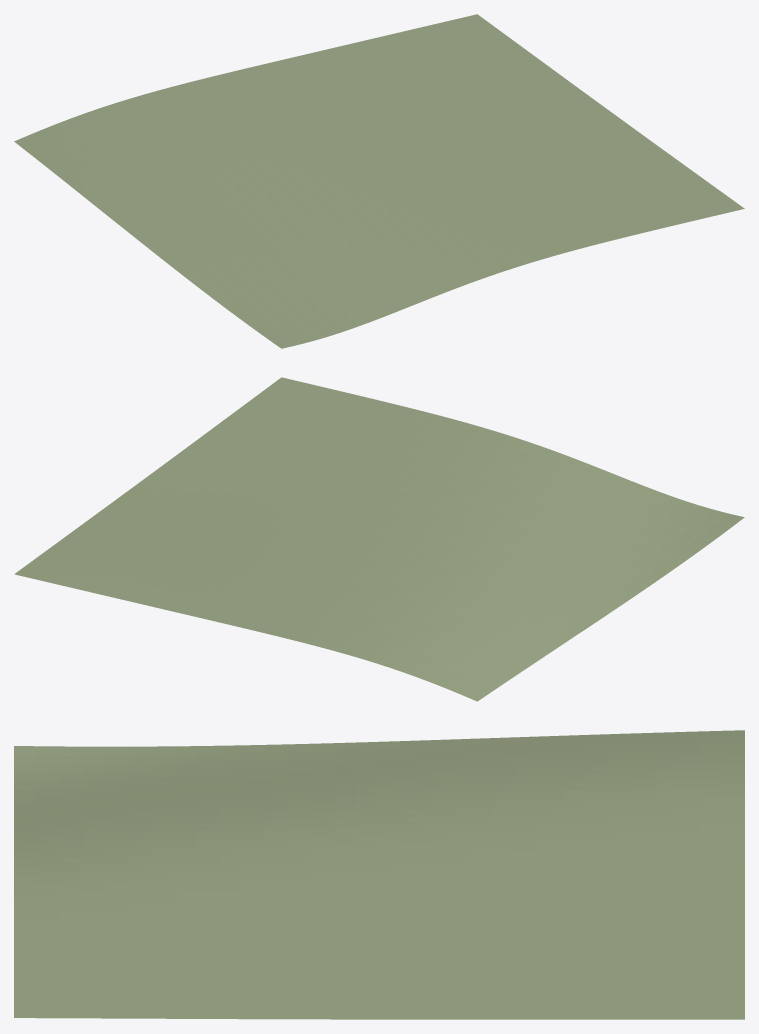
The model's file is desert-13-22.glb.
3 renders of one model, top to bottom at view 1: azimuth 30°, elevation 25°; view 2: azimuth 150°, elevation 25°; view 3: azimuth 270°, elevation 25°, orthographic. The views are drawn at different scales.
Visible parts, largest first — view 1: desert-13-22; view 2: desert-13-22; view 3: desert-13-22.
Boxes of the visible parts, x1,y1,x2,y2 form: desert-13-22: [14, 14, 744, 348]; desert-13-22: [14, 377, 744, 701]; desert-13-22: [14, 730, 744, 1019].
Bounding box in the file's own units: 512 × 30.23 × 512.
